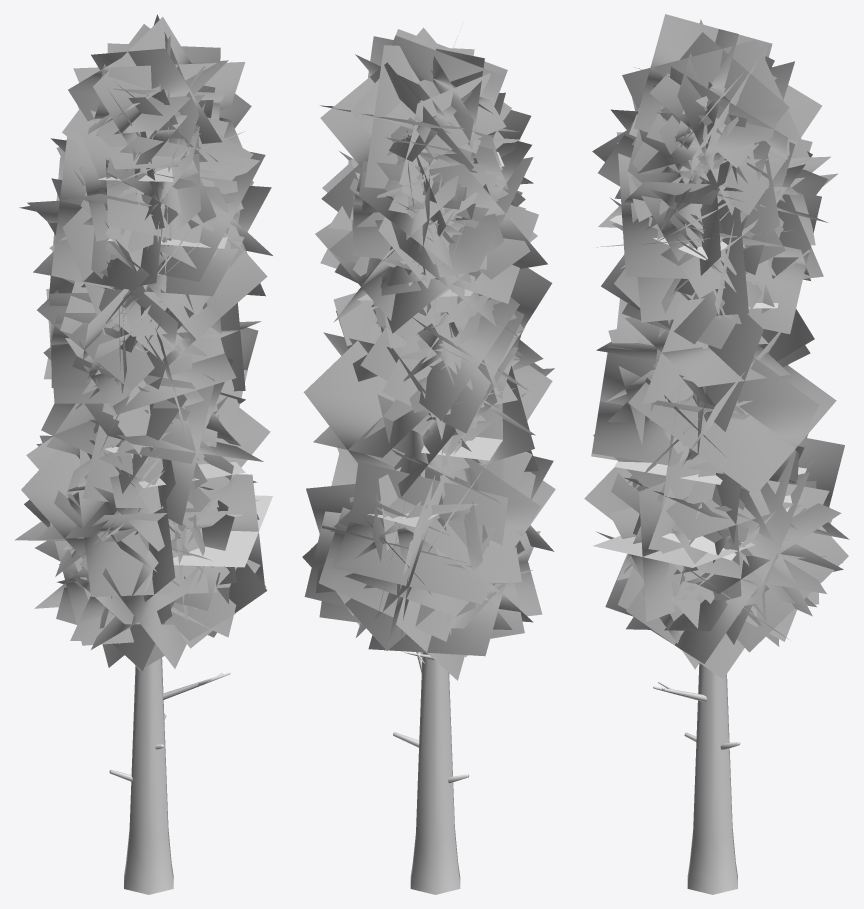
File: STColumnar4.glb
The picture shows the model from 3 angles, left to right: view 1: azimuth 30°, elevation 25°; view 2: azimuth 150°, elevation 25°; view 3: azimuth 270°, elevation 25°; orthographic projection.
Visible parts, largest first — view 1: Leaf.127; view 2: Leaf.127; view 3: Leaf.127.
Boxes of the visible parts, x1,y1,x2,y2 form: Leaf.127: (14, 14, 272, 894); Leaf.127: (302, 27, 555, 894); Leaf.127: (584, 14, 849, 894).
Bounding box in the file's own units: 3.95 × 13.93 × 3.88.
2 materials, 1 textured.
